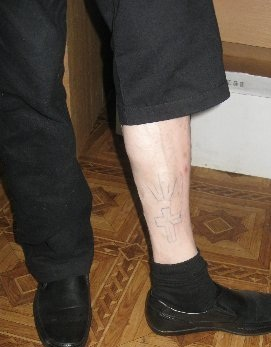tatu9_krest: (153, 206, 183, 239)
